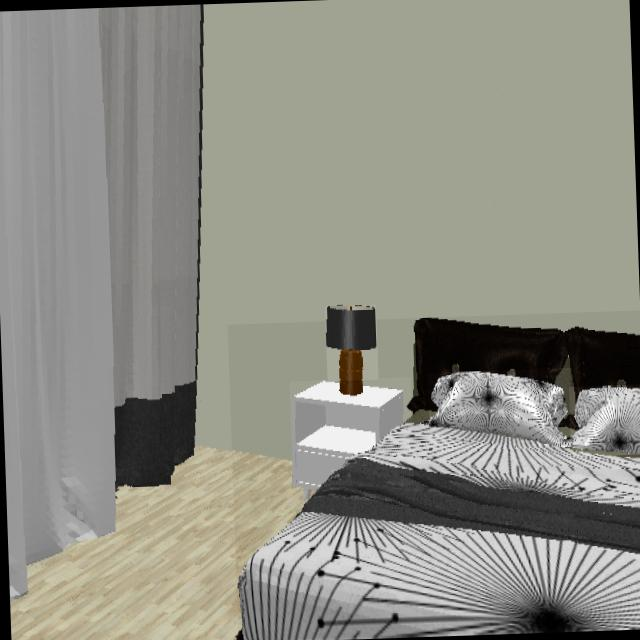bed: (236, 318, 640, 640)
lamp: (326, 306, 377, 397)
nighttable: (292, 381, 411, 489)
pillow: (429, 373, 572, 446), (572, 386, 640, 454)
